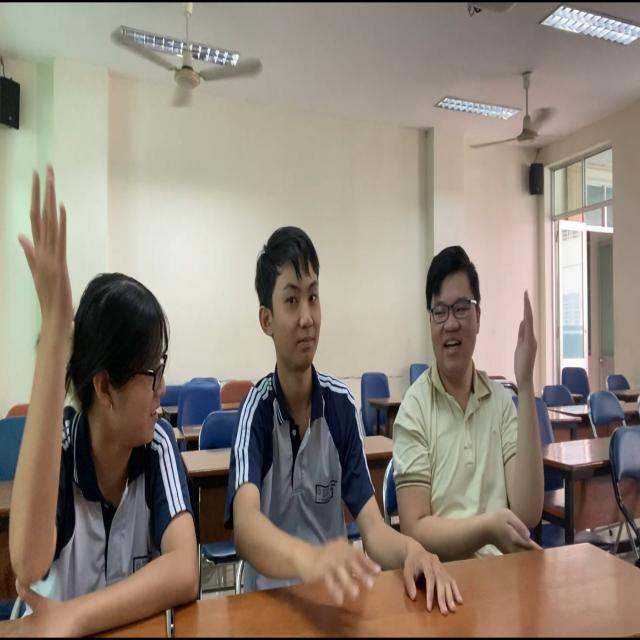raise_hand: (1, 97, 238, 640), (376, 227, 554, 605)
